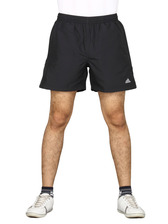clothoes: (42, 13, 142, 96)
shoes: (19, 186, 60, 219), (109, 190, 148, 218)
